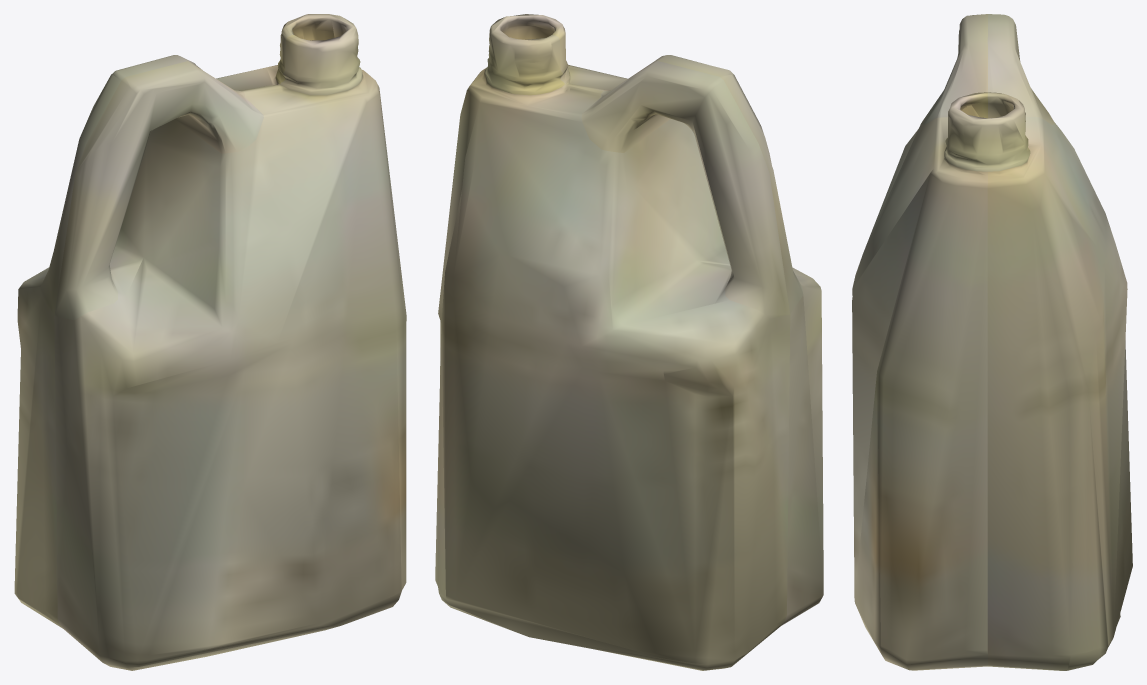
3 renders of one model, left to right at view 1: azimuth 30°, elevation 25°; view 2: azimuth 150°, elevation 25°; view 3: azimuth 270°, elevation 25°, orthographic.
Visible parts, largest first — view 1: plastic_bottle_gallon; view 2: plastic_bottle_gallon; view 3: plastic_bottle_gallon.
Boxes of the visible parts, x1,y1,x2,y2 form: plastic_bottle_gallon: [14, 14, 406, 670]; plastic_bottle_gallon: [435, 14, 823, 670]; plastic_bottle_gallon: [852, 14, 1132, 670].
Bounding box in the file's own units: 0.1611 × 0.2734 × 0.1259.
1 material, 1 textured.
